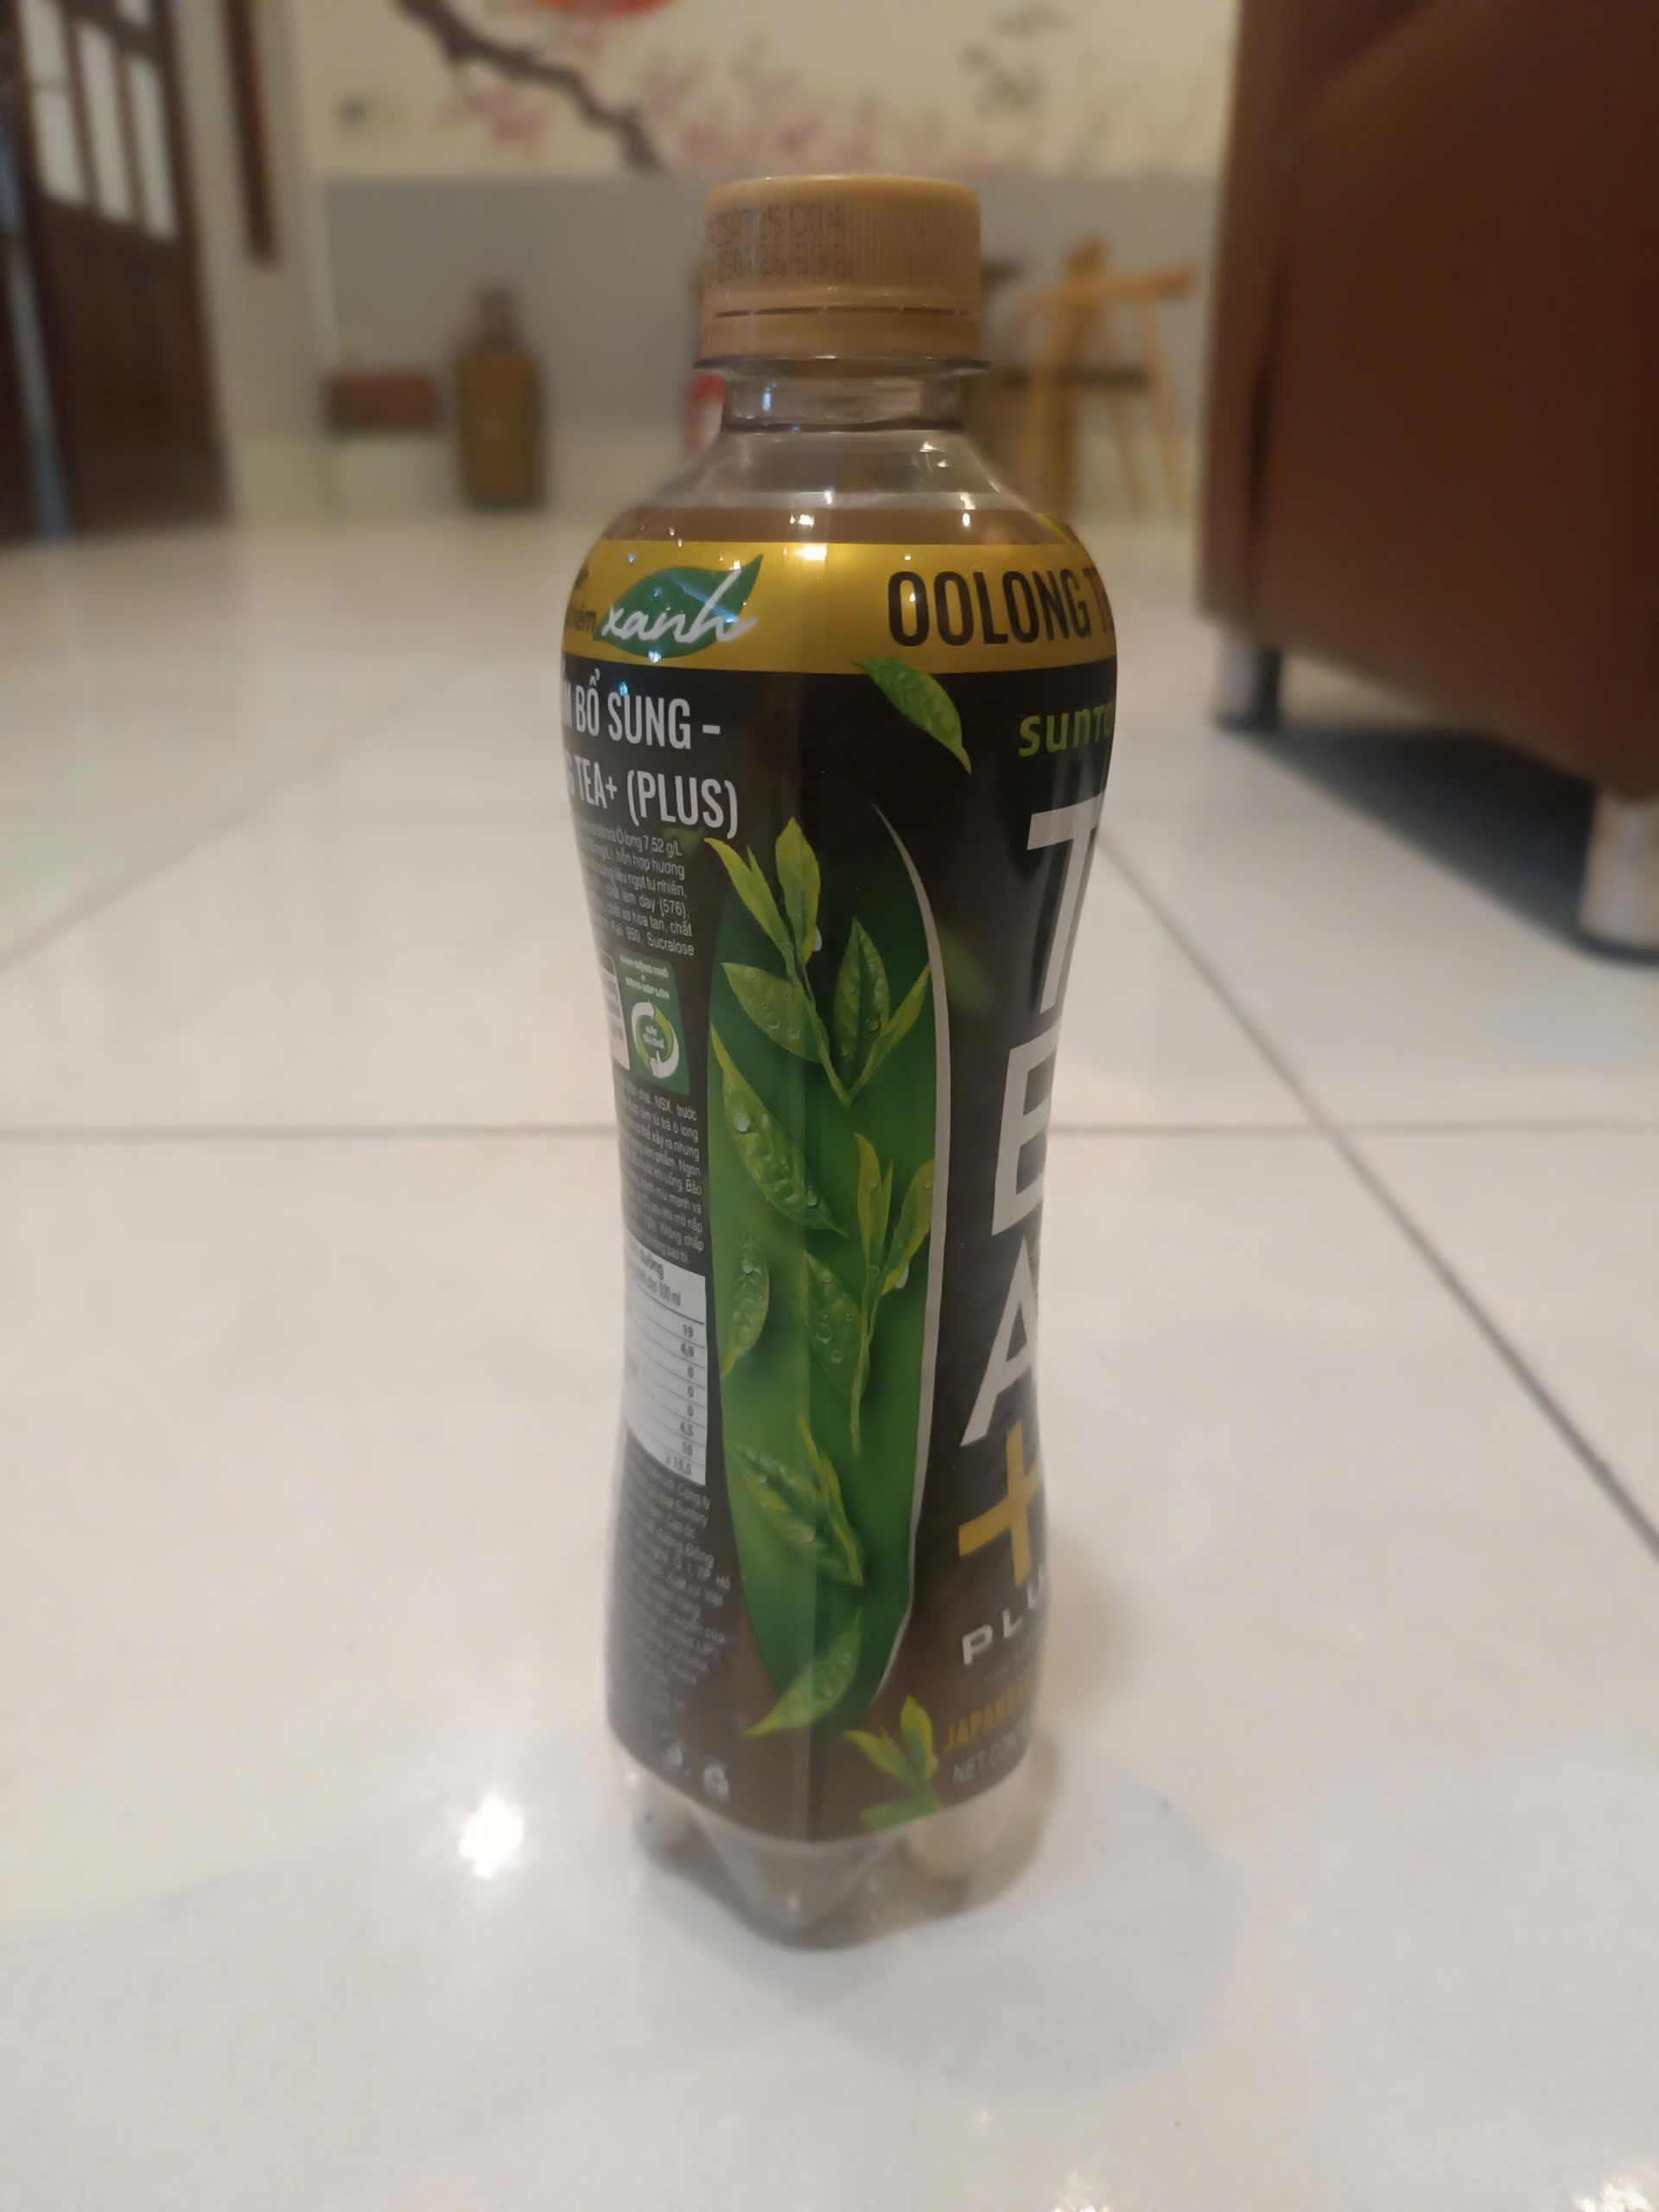Vo co: (558, 165, 1124, 1937)
